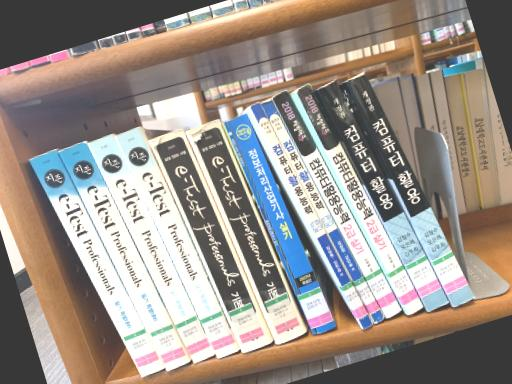book-spine: (28, 150, 165, 377), (315, 80, 448, 312), (344, 72, 475, 307), (58, 141, 190, 371), (294, 83, 423, 314), (272, 89, 401, 318), (114, 126, 239, 358), (88, 134, 214, 364), (248, 102, 372, 328), (148, 129, 272, 352), (262, 102, 385, 324), (192, 120, 307, 344), (222, 114, 336, 335)
